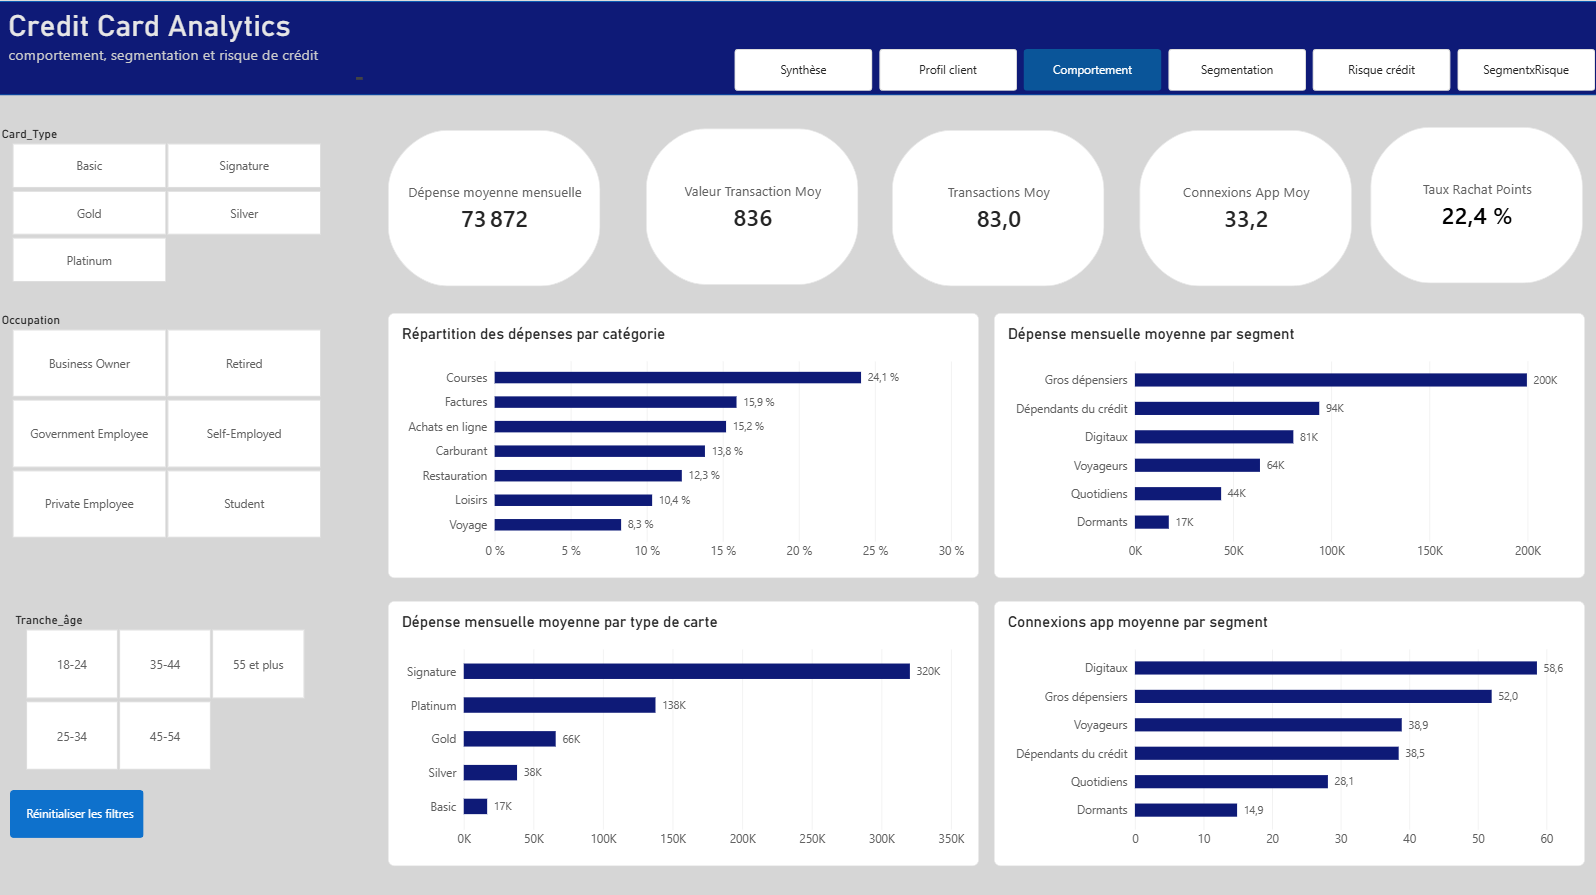

This screenshot's page, from the dashboard's own definition file:
{"tool":"powerbi","page":{"name":"Comportement ","canvas":[1920,1080],"ordinal":2},"visuals":[{"type":"shape","title":"Credit Card Analytics ","box":[0,0,1919.3,112.9],"z":0},{"type":"textbox","title":"Credit Card Analytics ","box":[17,8.5,423.9,85.2],"z":1000},{"type":"slicer","fields":{"Values":["Data.Card_Type"]},"box":[0,151.2,409,187.5],"z":2000},{"type":"slicer","fields":{"Values":["Data.Occupation"]},"box":[0,372.8,409,270.5],"z":3000},{"type":"slicer","fields":{"Values":["Data.Tranche_âge"]},"box":[17,732.8,372.8,189.6],"z":4000},{"type":"cardVisual","title":"Dépense moyenne mensuelle","fields":{"Data":["Mesures.Valeur Transaction Moy"]},"box":[778.8,153,255,187.8],"z":5000},{"type":"cardVisual","title":"Dépense moyenne mensuelle","fields":{"Data":["Mesures.Transactions Moy"]},"box":[1073.2,155.3,255,187.8],"z":6000},{"type":"cardVisual","title":"Dépense moyenne mensuelle","fields":{"Data":["Mesures.Connexions App Moy"]},"box":[1369.9,155.3,255,187.8],"z":7000},{"type":"cardVisual","title":"Dépense moyenne mensuelle","fields":{"Data":["Mesures.Taux Rachat Points"]},"box":[1645.7,150.7,255,187.8],"z":8000},{"type":"cardVisual","title":"Dépense moyenne mensuelle","fields":{"Data":["Mesures.Dépense moyenne mensuelle"]},"box":[470.5,155.3,255,187.8],"z":9000},{"type":"clusteredBarChart","title":"Répartition des dépenses par catégorie","fields":{"Category":["Catégorie.Catégorie"],"Y":["Mesures.% Dépense Catégorie"]},"box":[470.8,372.8,707.2,317.4],"z":10000},{"type":"clusteredBarChart","title":"Dépense mensuelle moyenne par segment","fields":{"Category":["Data.Segment_Client"],"Y":["Mesures.Dépense Moy"]},"box":[1195,372.8,707.2,317.4],"z":11000},{"type":"clusteredBarChart","title":"Dépense mensuelle moyenne par type de carte ","fields":{"Category":["Data.Card_Type"],"Y":["Mesures.Dépense Moy"]},"box":[470.8,717.9,707.2,317.4],"z":12000},{"type":"clusteredBarChart","title":"Connexions app moyenne par segment","fields":{"Category":["Data.Segment_Client"],"Y":["Mesures.Connexions App Moy"]},"box":[1195,717.9,707.2,317.4],"z":13000},{"type":"pageNavigator","box":[885,57.5,1035,50],"z":13001},{"type":"actionButton","box":[17.5,945,160,57.5],"z":13002}]}

Visuals, with their boxes in screenshot pixels (x1, y1, x2, y2), scaled from the page's 1920x1080 canvas onto the 1596x895 screenshot:
"Credit Card Analytics " shape: (0,0,1595,94)
"Credit Card Analytics " textbox: (14,7,366,78)
slicer - Data.Card_Type: (0,125,340,281)
slicer - Data.Occupation: (0,309,340,533)
slicer - Data.Tranche_âge: (14,607,324,764)
"Dépense moyenne mensuelle" cardVisual: (647,127,859,282)
"Dépense moyenne mensuelle" cardVisual: (892,129,1104,284)
"Dépense moyenne mensuelle" cardVisual: (1139,129,1351,284)
"Dépense moyenne mensuelle" cardVisual: (1368,125,1580,281)
"Dépense moyenne mensuelle" cardVisual: (391,129,603,284)
"Répartition des dépenses par catégorie" clusteredBarChart: (391,309,979,572)
"Dépense mensuelle moyenne par segment" clusteredBarChart: (993,309,1581,572)
"Dépense mensuelle moyenne par type de carte " clusteredBarChart: (391,595,979,858)
"Connexions app moyenne par segment" clusteredBarChart: (993,595,1581,858)
pageNavigator: (736,48,1595,89)
actionButton: (15,783,148,831)
